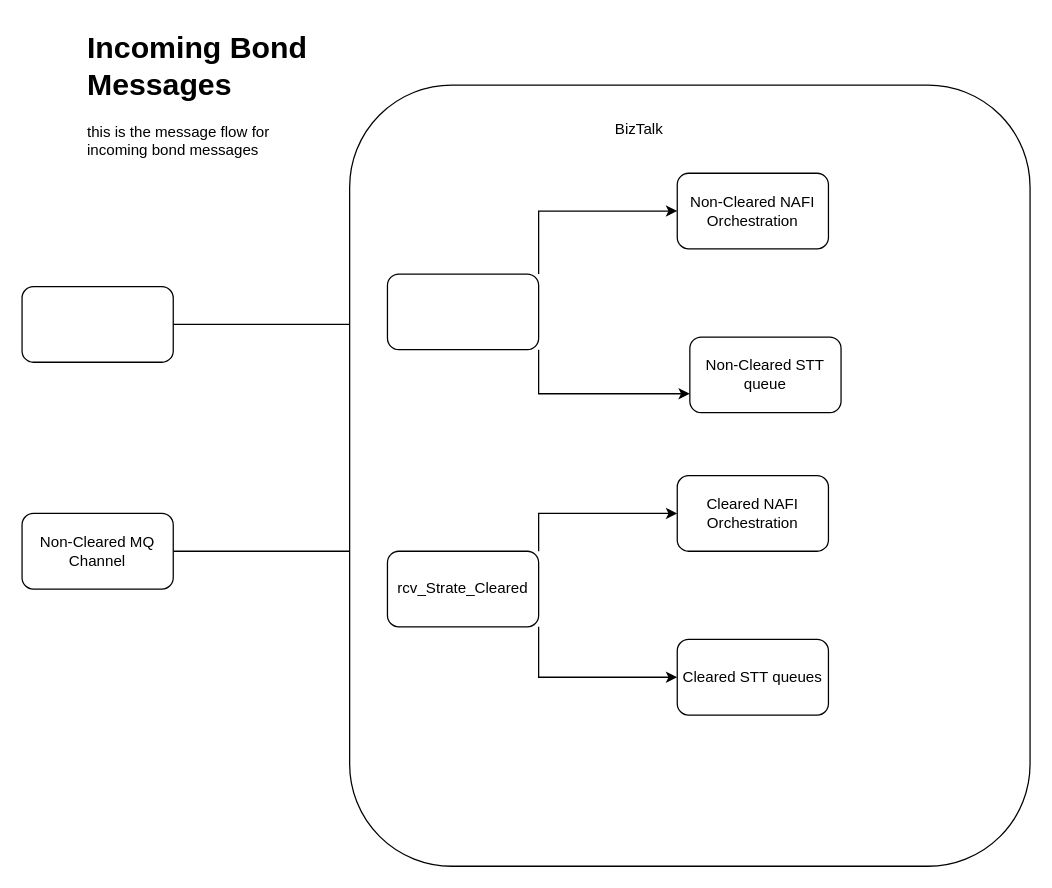
This 1052x888 diagram has some shape labels left out. The shapes that lost their labels are listed below. From the top down, each one's centre as x and y in pixels, then its label:
At pixel 97 323: "Cleared MQ channel".
At pixel 462 311: "rcv_Strate_Non-Cleared".
